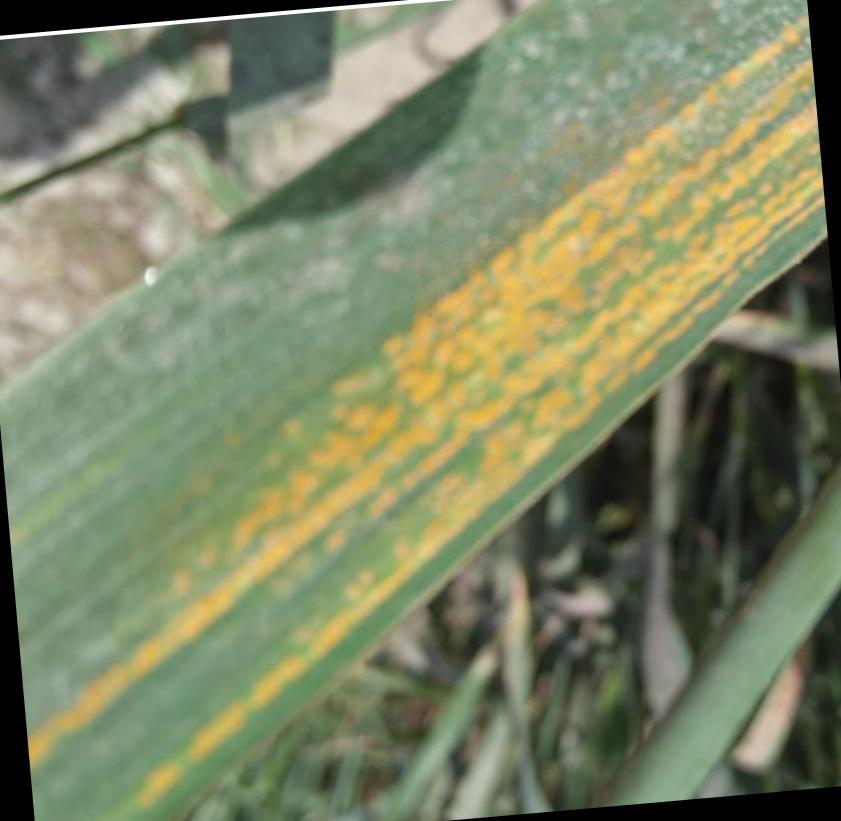Wheat: (76, 44, 822, 754)
